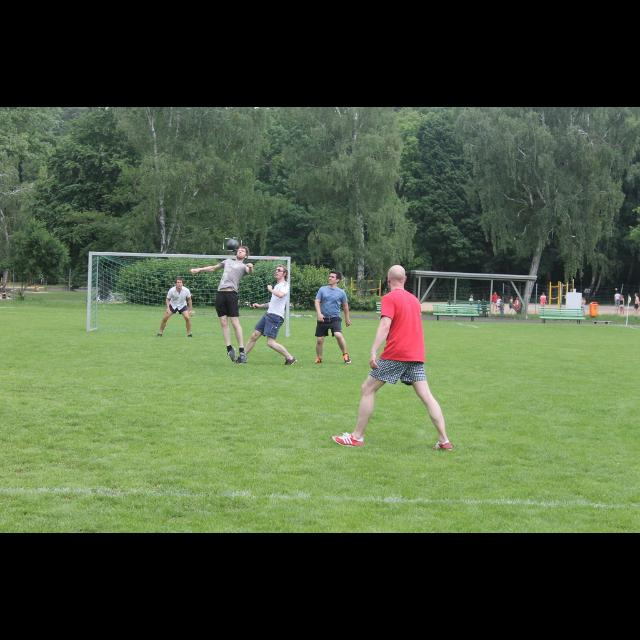Football: (224, 237, 242, 251)
